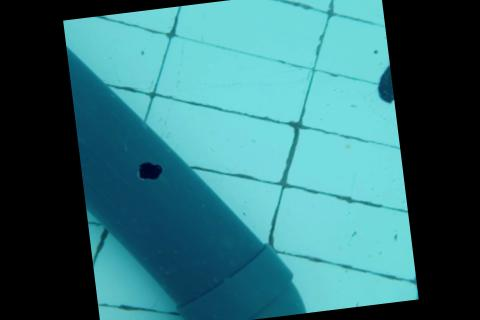kebocoran: (132, 159, 164, 184)
